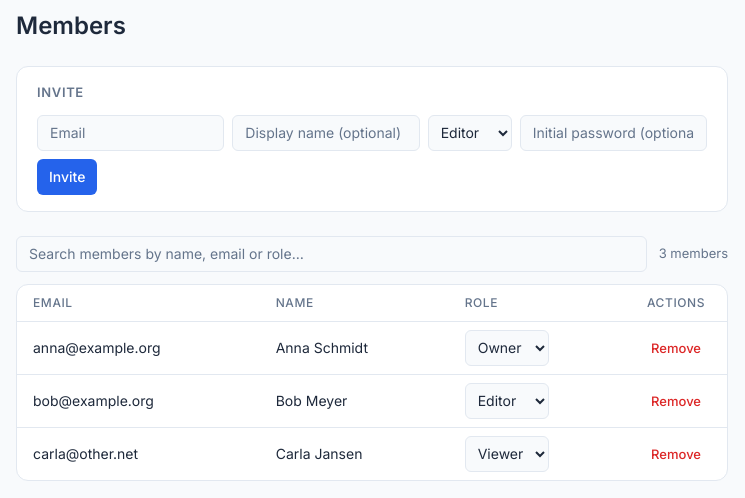
MembersPage search › shows an empty state when nothing matches, and Escape clears the query
In the search field with test id "members-search": coordinates (331, 254) [16,236,647,272], type "nobody"
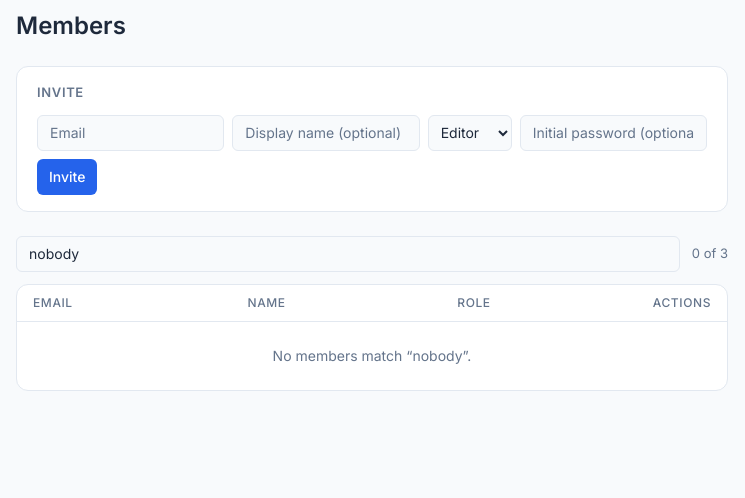
Check: the cell with test id "members-empty" reads "No members match “nobody”.", box [17,321,727,390]
Press Escape in the search field with test id "members-search", box [16,236,680,272]
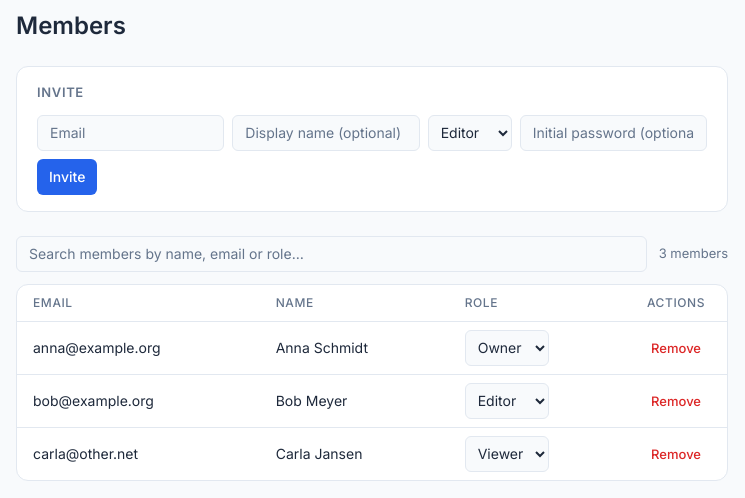
Check: the search field with test id "members-search" is empty, box [16,236,647,272]
Check: the cell with test id "members-empty" is gone
Check: the row with test id "member-u1" is shown, box [17,321,727,374]
